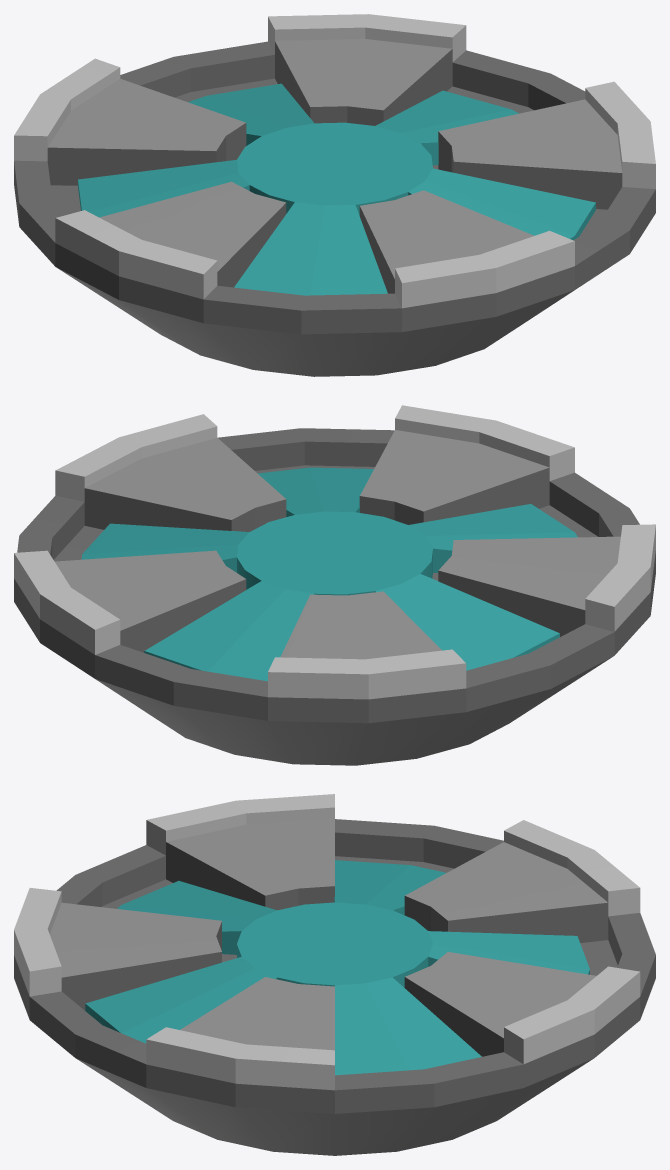
The model's file is teleporter.fbx.
3 views of the same model, one above another, from view 1: azimuth 30°, elevation 25°; view 2: azimuth 150°, elevation 25°; view 3: azimuth 270°, elevation 25° (orthographic).
Parts seen in each view (by area): view 1: pCylinder1, pCylinder2; view 2: pCylinder1, pCylinder2; view 3: pCylinder1, pCylinder2.
Boxes of the visible parts, bbox=[...] form: pCylinder1: bbox=[14, 14, 655, 376]; pCylinder2: bbox=[78, 83, 595, 295]; pCylinder1: bbox=[14, 405, 655, 765]; pCylinder2: bbox=[81, 467, 577, 681]; pCylinder1: bbox=[14, 794, 655, 1155]; pCylinder2: bbox=[85, 860, 589, 1075].
Size of the model in its own units: 2 by 0.4898 by 2.
